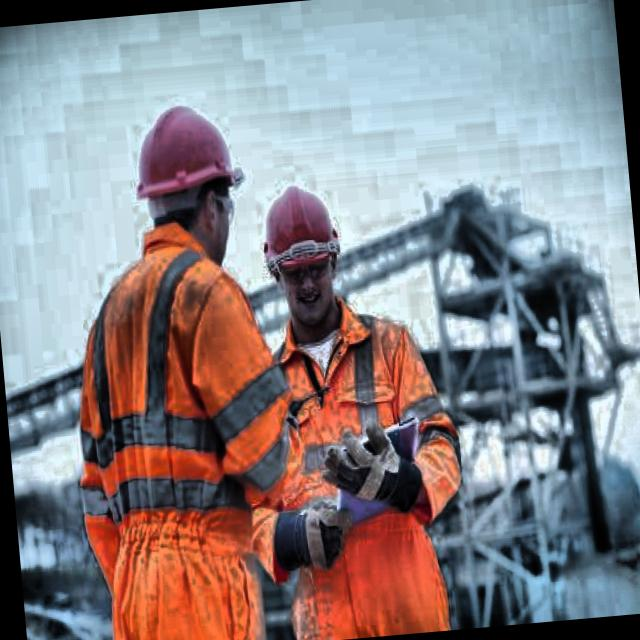helmet: (122, 82, 256, 278), (250, 173, 358, 343)
